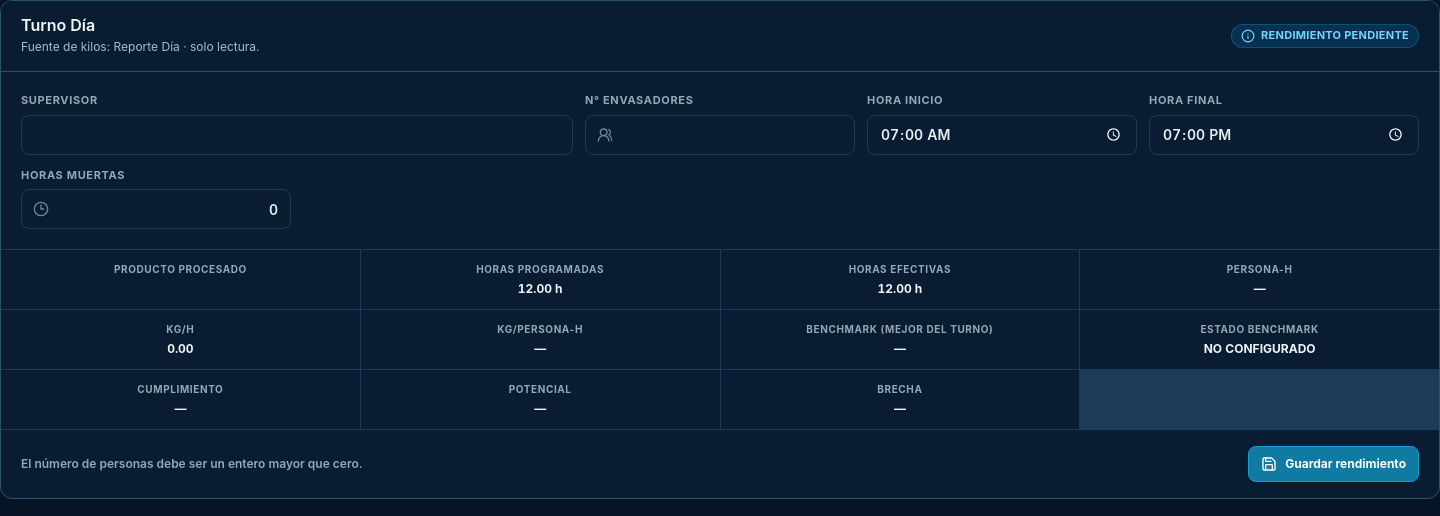
Test: PerformanceShiftCard › updates inputs and submits performance record on save
The image size is (1440, 516).
Type "Juan Perez" into the field labelled "Supervisor". click: (297,134)
box: [21,114,573,154]
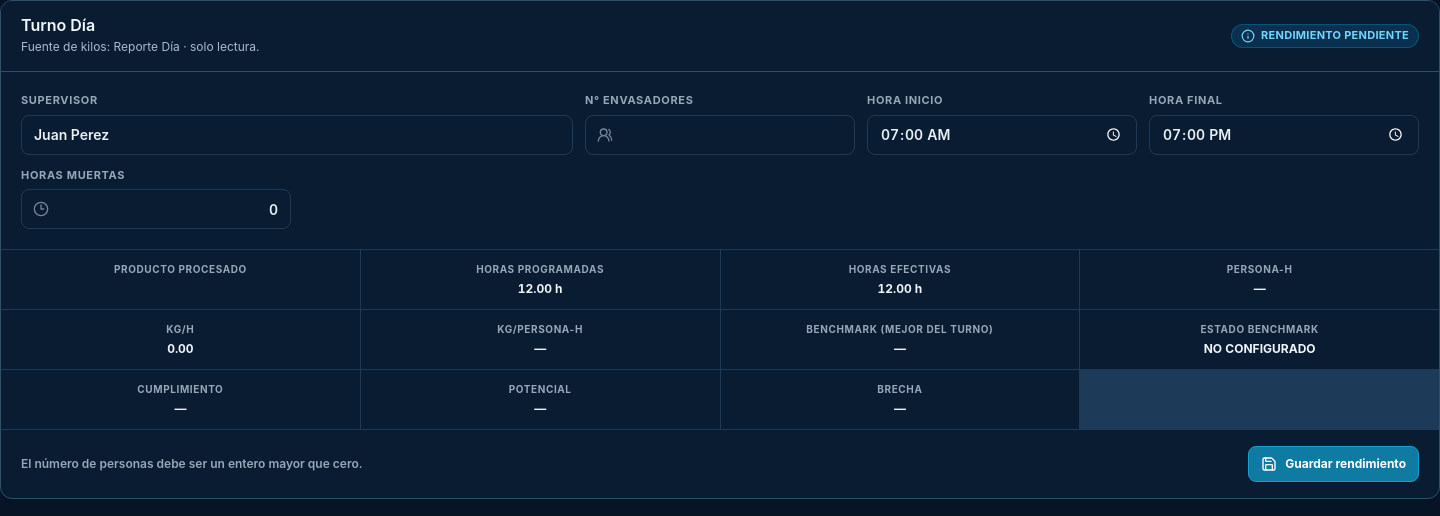
Type "15" into the number field labelled "N° Envasadores". click: (720,134)
box: [585,114,855,154]
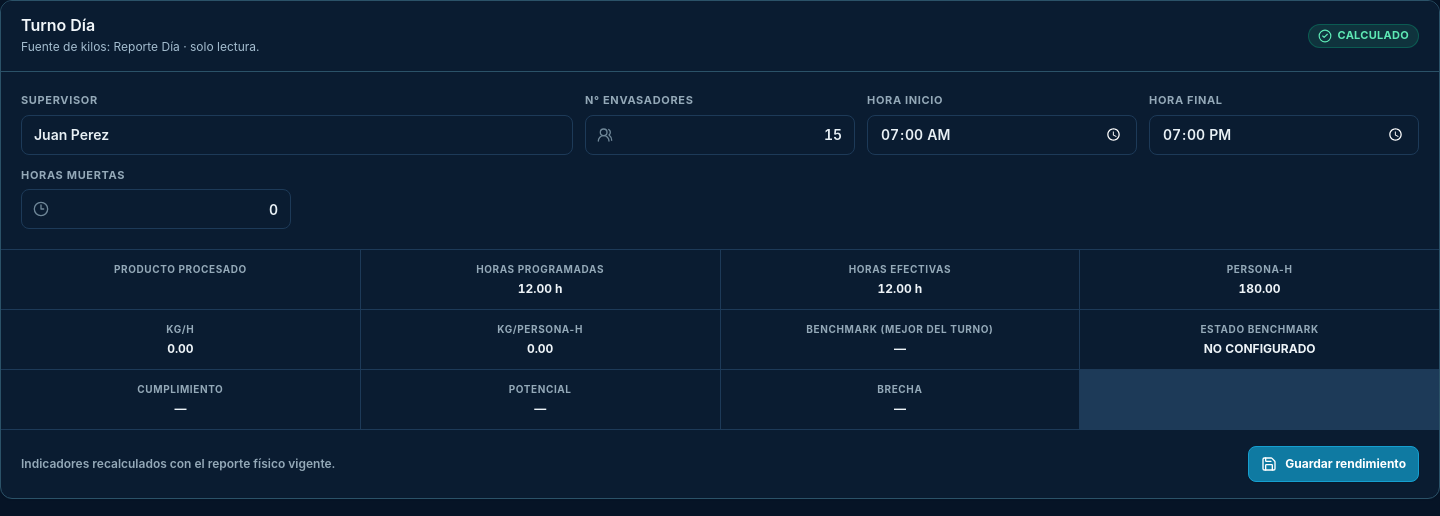
Replace the text in the number field labelled "Horas muertas" with "1". click: (156,209)
box: [21,189,291,229]
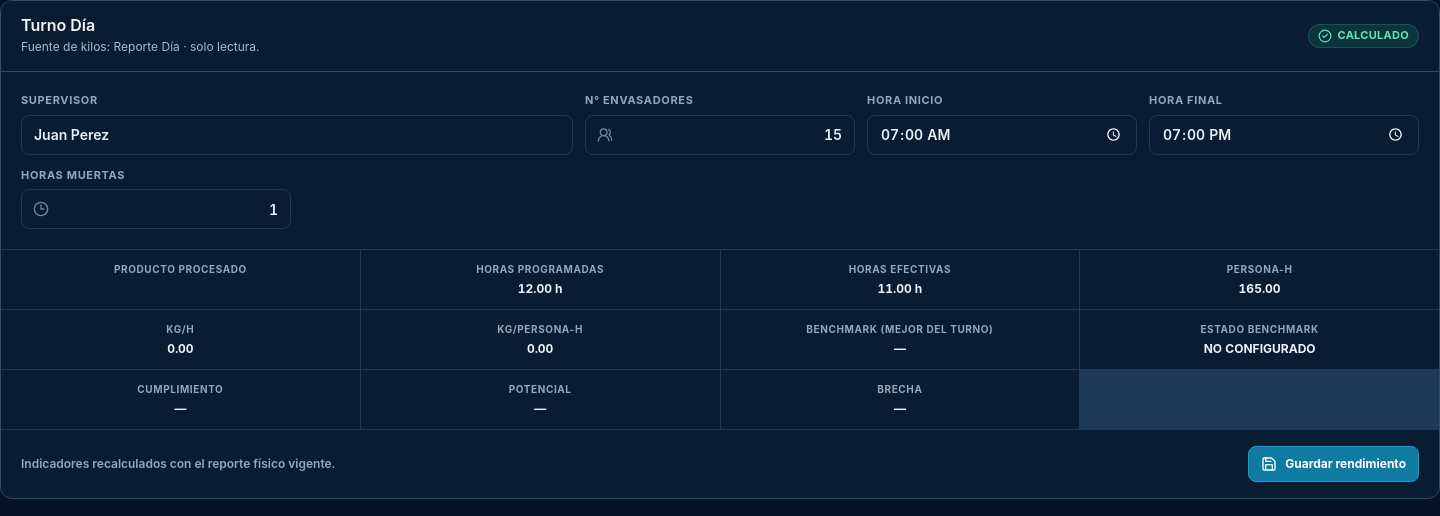
Click the button "Guardar rendimiento". click: (1334,464)
box: [1248,446,1419,482]
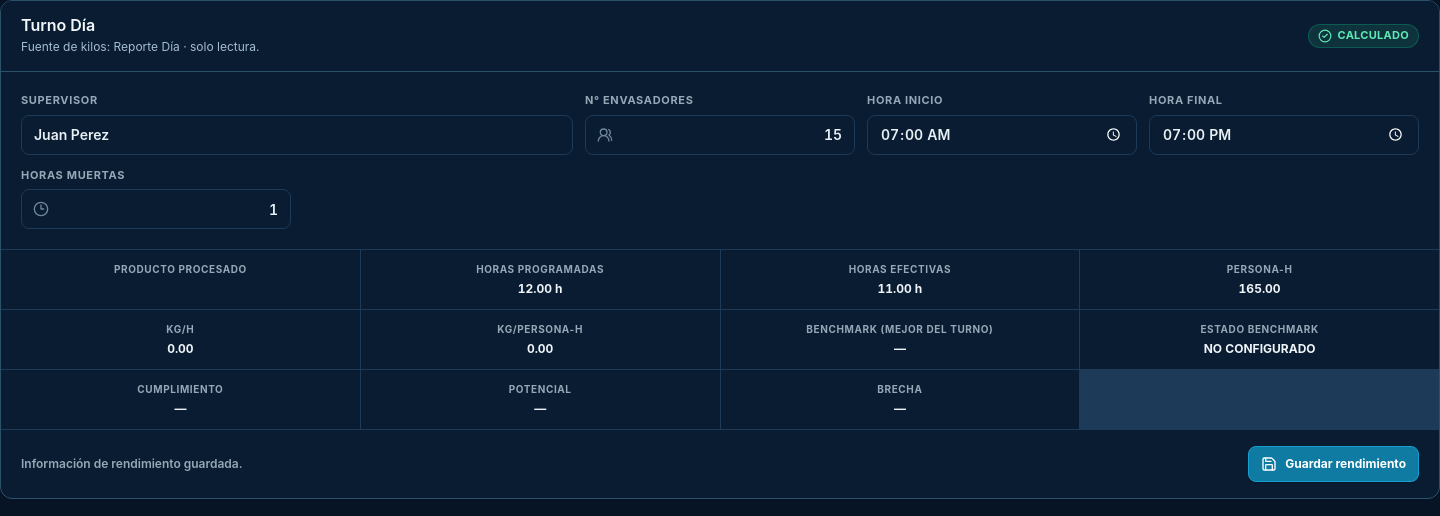
Expected: the text "Información de rendimiento guardada." is shown, [21,456,243,472]
